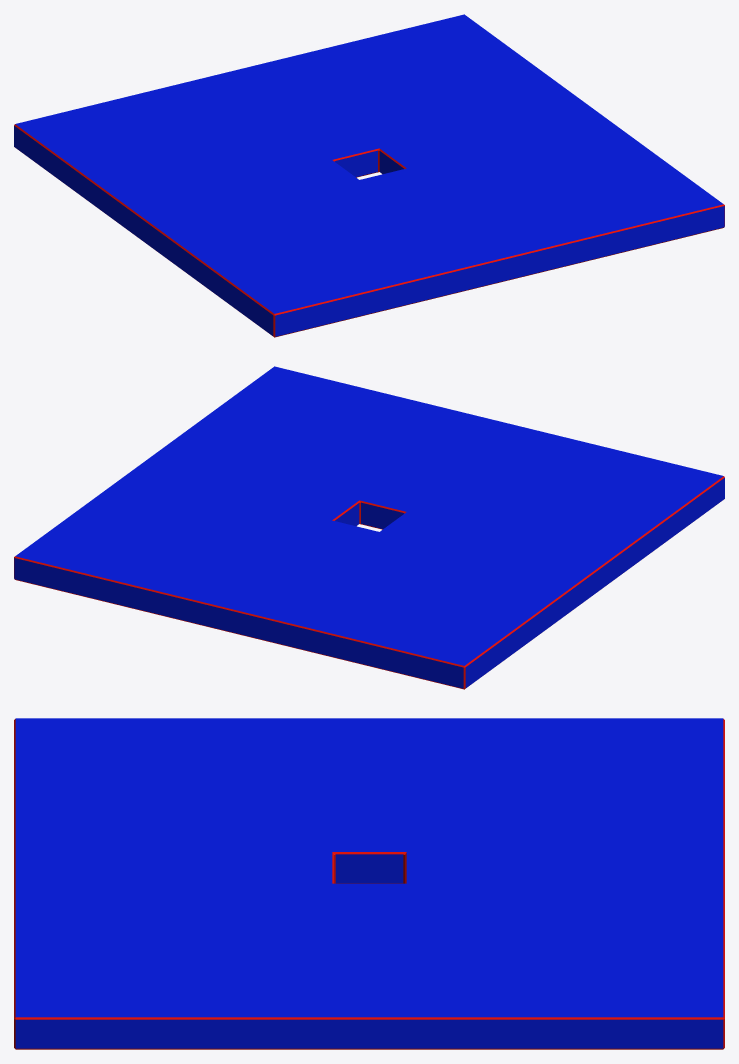
File: L9_OuterCube_Top.fbx
3 renders of one model, top to bottom at view 1: azimuth 30°, elevation 25°; view 2: azimuth 150°, elevation 25°; view 3: azimuth 270°, elevation 25°, orthographic. The views are drawn at different scales.
Parts seen in each view (by area): view 1: L9_OuterCube_Top; view 2: L9_OuterCube_Top; view 3: L9_OuterCube_Top.
Part boxes in pixels (left/top/right/bottom): L9_OuterCube_Top: left=14, top=14, right=724, bottom=337; L9_OuterCube_Top: left=14, top=366, right=724, bottom=689; L9_OuterCube_Top: left=14, top=718, right=724, bottom=1049.
Size of the model in its own units: 2000 by 100 by 2000.
